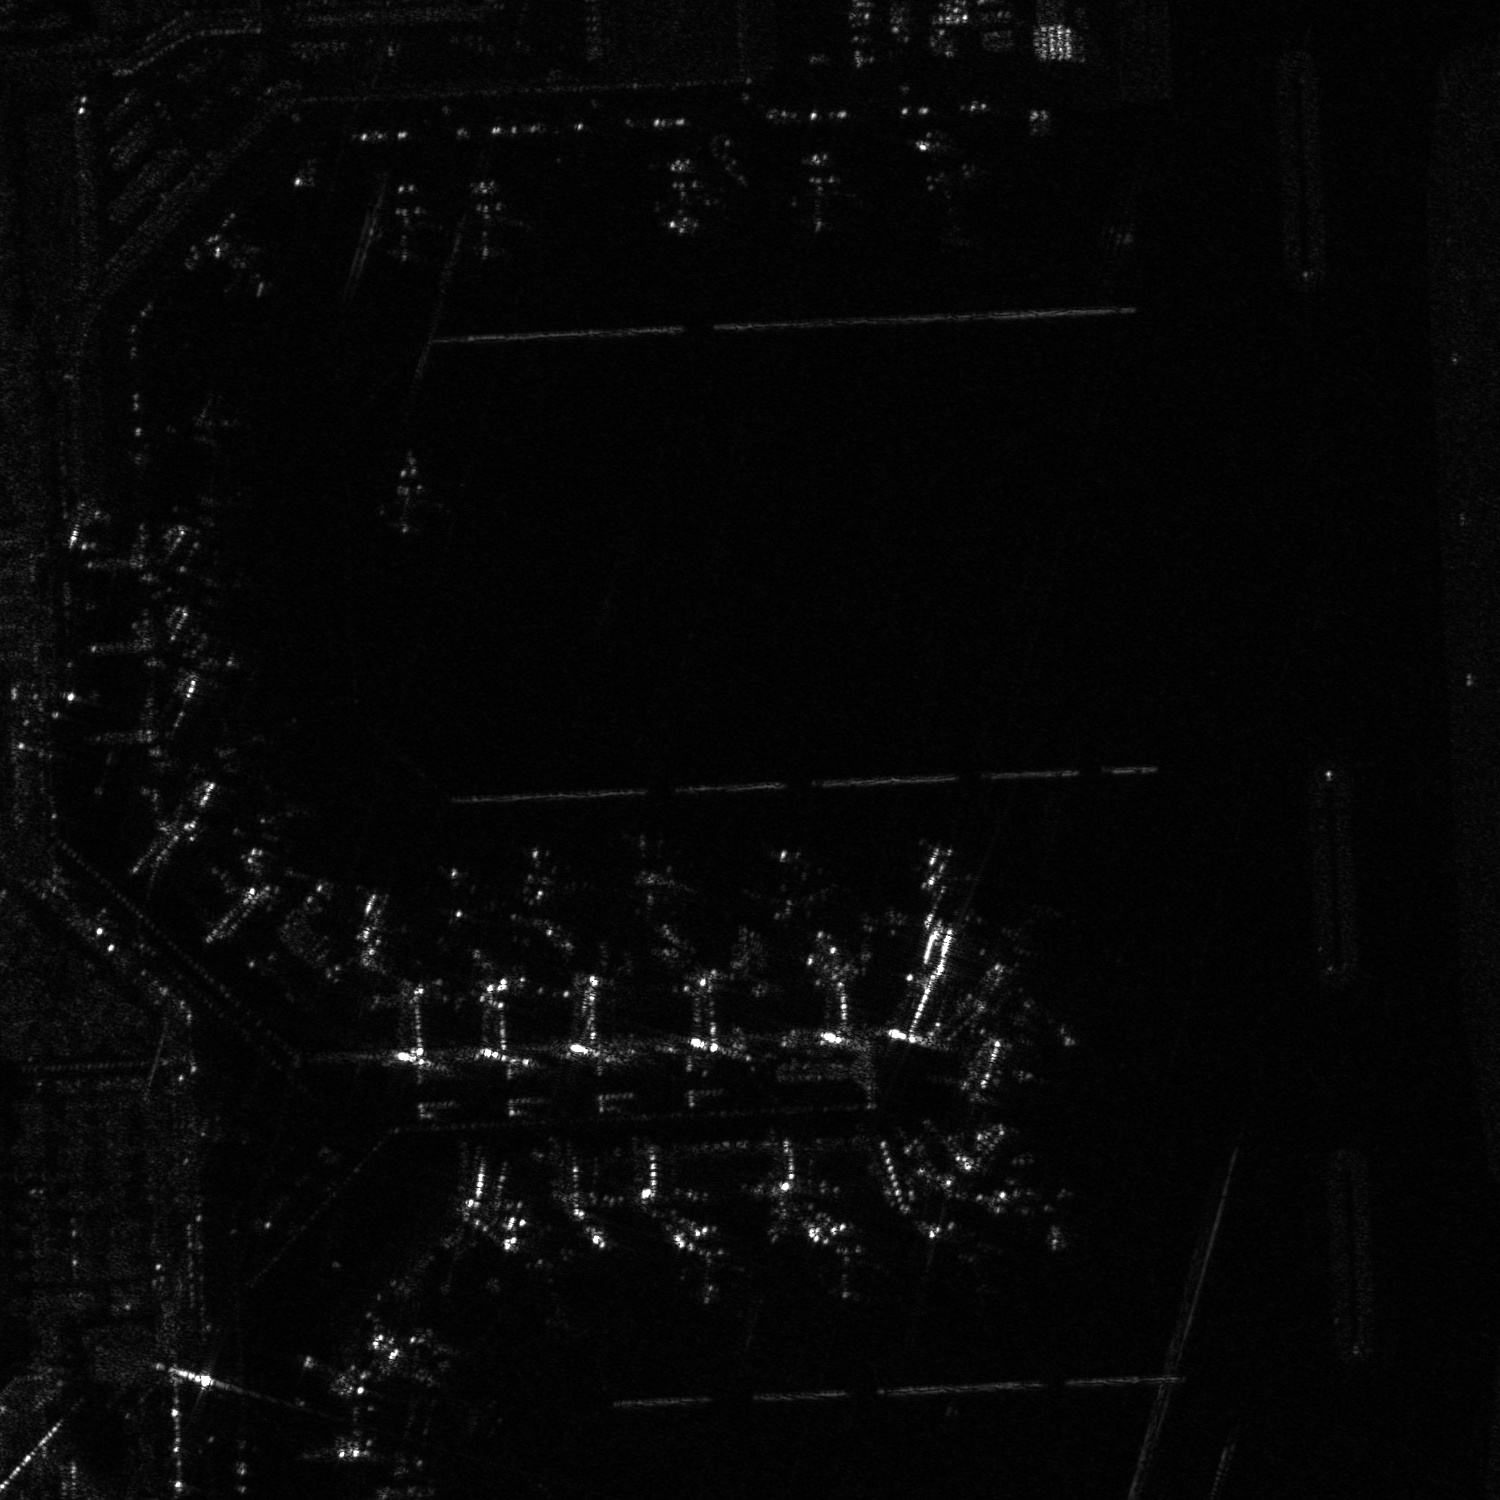A220: (216, 706, 315, 795), (416, 854, 510, 930), (157, 391, 245, 452), (986, 986, 1060, 1049), (985, 908, 1049, 977), (212, 239, 279, 299)
A320/321: (729, 841, 852, 924), (799, 1207, 890, 1306), (600, 828, 701, 909), (966, 1150, 1058, 1229), (896, 837, 984, 896)
A330: (385, 1330, 516, 1437)
Boeing737: (768, 141, 870, 240), (905, 126, 986, 238), (455, 168, 536, 271), (360, 176, 446, 266), (913, 1212, 999, 1273)
Boeing787: (670, 1213, 751, 1319)
other: (488, 838, 599, 911), (368, 449, 452, 537), (646, 151, 728, 240), (521, 1250, 603, 1335)
